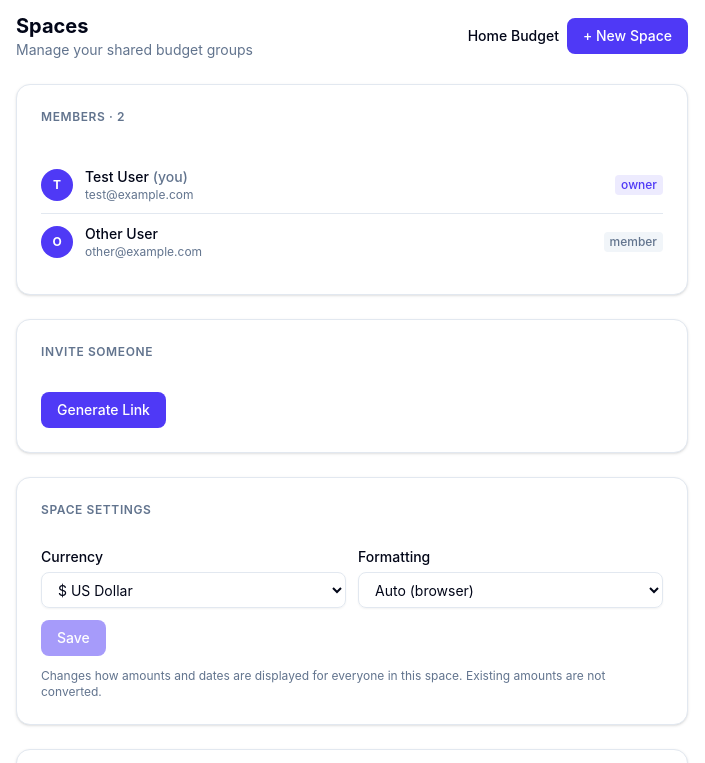
it: SpacesPage › generates an invite link containing the token
This screenshot has width=705, height=763.
Click the button "Generate Link" at (103, 410), box [41,392,166,428]
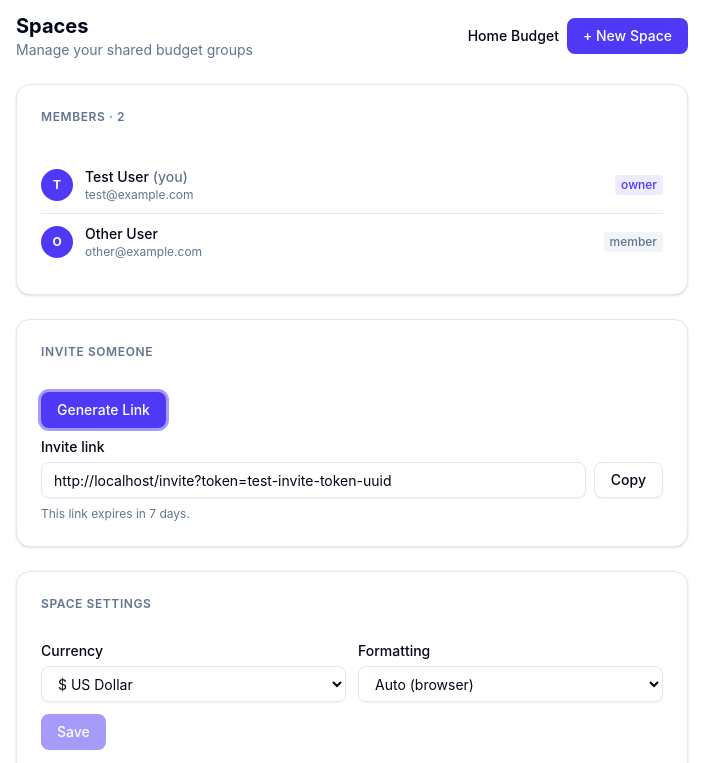
Now the field showing "test-invite-token-uuid" is shown, box [41,462,586,498]
